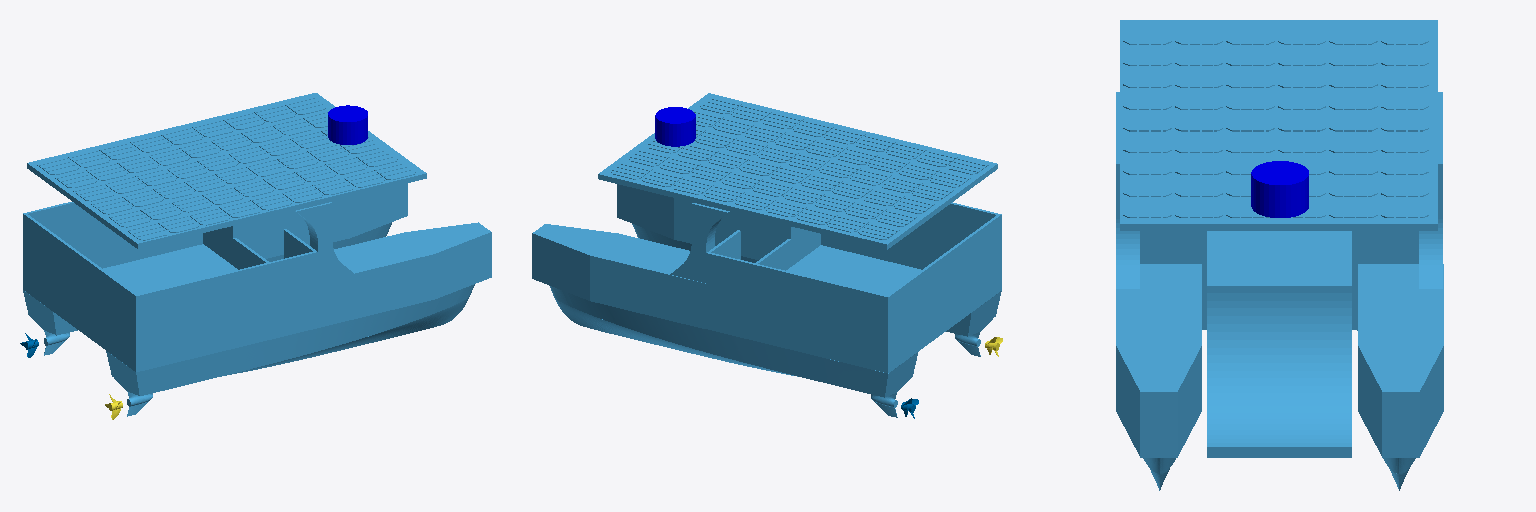
URDF robot description (boat_1):
<?xml version="1.0" ?>
<robot name="boat_1">
  <!-- ROOT BASE LINK -->
  <link name="base_link">
    <visual>
      <geometry>
        <box size="0.01 0.01 0.01"/>
      </geometry>
      <material name="invisible">
        <color rgba="0 0 0 0"/>
      </material>
    </visual>
  </link>
  <joint name="base_to_hull" type="fixed">
    <parent link="base_link"/>
    <child link="hull_1"/>
    <origin rpy="0 0 0" xyz="0 0 0"/>
  </joint>

  <!-- HULL LINK-->
  <link name="hull_1">
    <inertial>
      <origin rpy="0 0 0" xyz="0.055 0 -0.5"/>
      <mass value="2000"/>
      <inertia ixx="5000" ixy="0" ixz="0" iyy="5000" iyz="0" izz="5000"/>
    </inertial>
    <collision>
      <geometry>
        <box size="2 1.33 1.7"/>
      </geometry>
    </collision>
    <visual>
      <geometry>
        <mesh filename="package://boat_1/meshes/boat.stl"/>
      </geometry>
    </visual>
  </link>
  <!-- LiDAR LINK -->
  <link name="lidar_link">
    <inertial>
      <mass value="0.5"/>
      <inertia ixx="0.001" ixy="0" ixz="0" iyy="0.001" iyz="0" izz="0.001"/>
    </inertial>
    <visual>
      <geometry>
        <cylinder length="0.15" radius="0.12"/>
      </geometry>
      <material name="blue">
        <color rgba="0 0 1 1"/>
      </material>
    </visual>
    <collision>
      <geometry>
        <cylinder length="0.15" radius="0.12"/>
      </geometry>
    </collision>
  </link>
  <joint name="lidar_joint" type="fixed">
    <parent link="hull_1"/>
    <child link="lidar_link"/>
    <origin rpy="0 0 0" xyz="0.75 0.0 0.960"/>
  </joint>

  <!-- PROPELLERS -->
  <link name="propeller_left">
    <inertial>
      <mass value="50"/>
      <inertia ixx="0.1" ixy="0" ixz="0" iyy="0.1" iyz="0" izz="0.1"/>
    </inertial>
    <visual>
      <geometry>
        <mesh filename="package://boat_1/meshes/prop.stl"/>
      </geometry>
    </visual>
  </link>
  <link name="propeller_right">
    <inertial>
      <mass value="50"/>
      <inertia ixx="0.1" ixy="0" ixz="0" iyy="0.1" iyz="0" izz="0.1"/>
    </inertial>
    <visual>
      <geometry>
        <mesh filename="package://boat_1/meshes/prop.stl"/>
      </geometry>
    </visual>
  </link>
  <joint name="prop_joint_left" type="continuous">
    <parent link="hull_1"/>
    <child link="propeller_left"/>
    <origin xyz="-1.1 -0.5 -0.24"/>
    <axis xyz="1 0 0"/>
  </joint>
  <joint name="prop_joint_right" type="continuous">
    <parent link="hull_1"/>
    <child link="propeller_right"/>
    <origin xyz="-1.1 0.5 -0.24"/>
    <axis xyz="-1 0 0"/>
  </joint>

  <!-- GAZEBO -->
  <gazebo reference="hull_1">
    <velocity_decay>
      <linear>0.1</linear>
      <angular>50</angular>
    </velocity_decay>
  </gazebo>

  <!-- THRUSTER PLUGINS -->
  <gazebo>
    <plugin filename="libignition-gazebo-thruster-system.so" name="ignition::gazebo::systems::Thruster">
      <joint_name>prop_joint_left</joint_name>
      <thrust_coefficient>0.1</thrust_coefficient>
      <fluid_density>1000</fluid_density>
      <propeller_diameter>0.2</propeller_diameter>
      <velocity_control>true</velocity_control>
      <p_gain>0.1</p_gain>
    </plugin>
    <plugin filename="libignition-gazebo-thruster-system.so" name="ignition::gazebo::systems::Thruster">
      <joint_name>prop_joint_right</joint_name>
      <thrust_coefficient>0.1</thrust_coefficient>
      <fluid_density>1000</fluid_density>
      <propeller_diameter>0.2</propeller_diameter>
      <velocity_control>true</velocity_control>
      <p_gain>0.1</p_gain>
    </plugin>
  </gazebo>
  
  <!-- HYDRODYNAMICS -->
  <gazebo>
    <plugin filename="libignition-gazebo-hydrodynamics-system.so" name="ignition::gazebo::systems::Hydrodynamics">
      <link_name>hull_1</link_name>
      <linear_drag_coefficients>1 50 50</linear_drag_coefficients>
      <angular_drag_coefficients>[phone redacted]</angular_drag_coefficients>
    </plugin>
  </gazebo>

  <!-- LIDAR SENSOR -->
  <gazebo reference="lidar_link">
    <sensor name="lidar_sensor" type="lidar">
      <topic>lidar_scan</topic>
      <update_rate>10</update_rate>
      <lidar>
        <horizontal_samples>360</horizontal_samples>
        <horizontal_resolution>1</horizontal_resolution>
        <horizontal_min_angle>-3.14159</horizontal_min_angle>
        <horizontal_max_angle>3.14159</horizontal_max_angle>
        <vertical_samples>1</vertical_samples>
        <range_min>0.2</range_min>
        <range_max>30.0</range_max>
      </lidar>
    </sensor>
  </gazebo>
</robot>

--- Facts derived from the render (not from the file) ---
3 views of the same robot in one strip: view 1: azimuth 30°, elevation 25°; view 2: azimuth 150°, elevation 25°; view 3: azimuth 270°, elevation 25° (orthographic).
Robot: boat_1 — 5 links, 4 joints (2 continuous, 2 fixed); root link base_link; default pose: every joint at zero.
Visible links, largest first — view 1: hull_1, lidar_link; view 2: hull_1, lidar_link; view 3: hull_1, lidar_link.
Link boxes in pixels (bbox=[...]): hull_1: bbox=[23, 93, 491, 416]; lidar_link: bbox=[328, 105, 367, 144]; hull_1: bbox=[532, 93, 1001, 417]; lidar_link: bbox=[655, 107, 695, 146]; hull_1: bbox=[1116, 20, 1443, 490]; lidar_link: bbox=[1251, 161, 1308, 217].
Size in the robot's own frame: 2.57 by 1.35 by 1.37 metres.
3 mesh visuals loaded from 2 distinct referenced files (2 binary STL).
